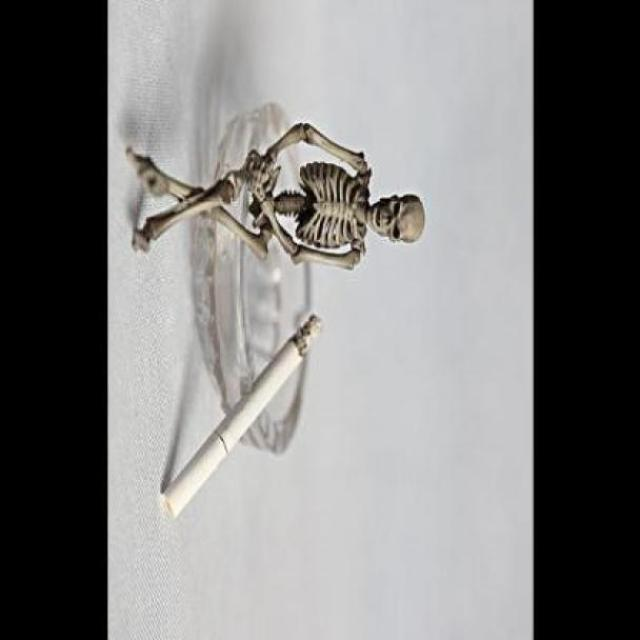rokok: (162, 309, 322, 519)
